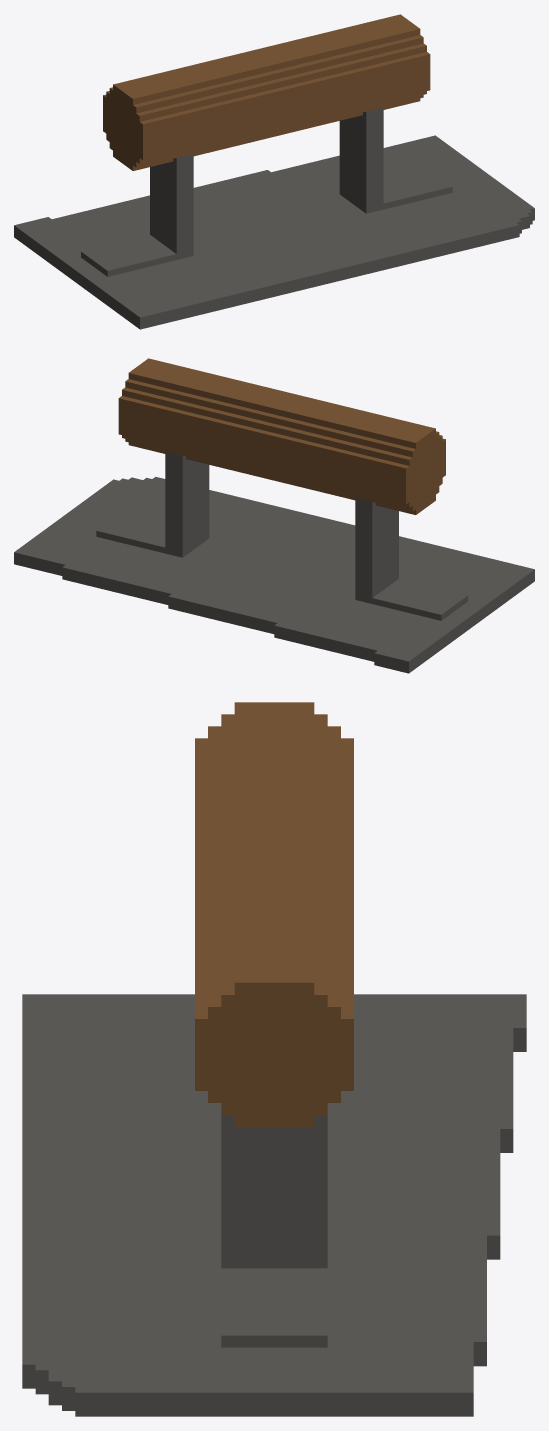
The model's file is metal_smoother.glb.
3 views of the same model, one above another, from view 1: azimuth 30°, elevation 25°; view 2: azimuth 150°, elevation 25°; view 3: azimuth 270°, elevation 25° (orthographic). The views are drawn at different scales.
Visible parts, largest first — view 1: metal_smoother:compound; view 2: metal_smoother:compound; view 3: metal_smoother:compound.
Boxes of the visible parts, x1,y1,x2,y2 form: metal_smoother:compound: (14, 14, 534, 329); metal_smoother:compound: (14, 358, 534, 673); metal_smoother:compound: (22, 702, 526, 1416).
Size of the model in its own units: 0.142 by 0.06 by 0.076.
